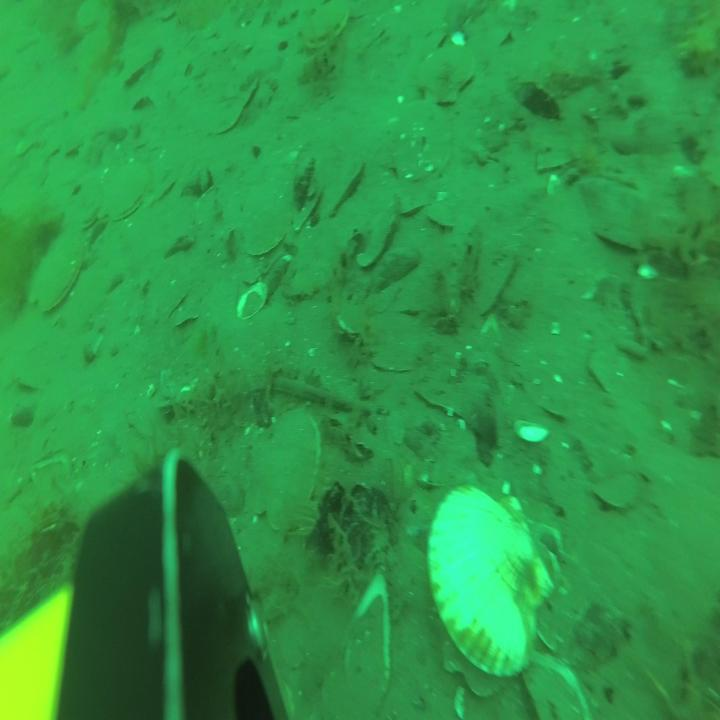scallop: (425, 481, 554, 681), (246, 410, 319, 532), (390, 103, 452, 188), (28, 236, 82, 318), (418, 42, 476, 109), (244, 183, 291, 263), (349, 197, 397, 263), (103, 166, 152, 226), (300, 3, 352, 52), (594, 468, 641, 519), (325, 157, 364, 210), (399, 182, 430, 220), (425, 196, 459, 230), (80, 204, 100, 230)
